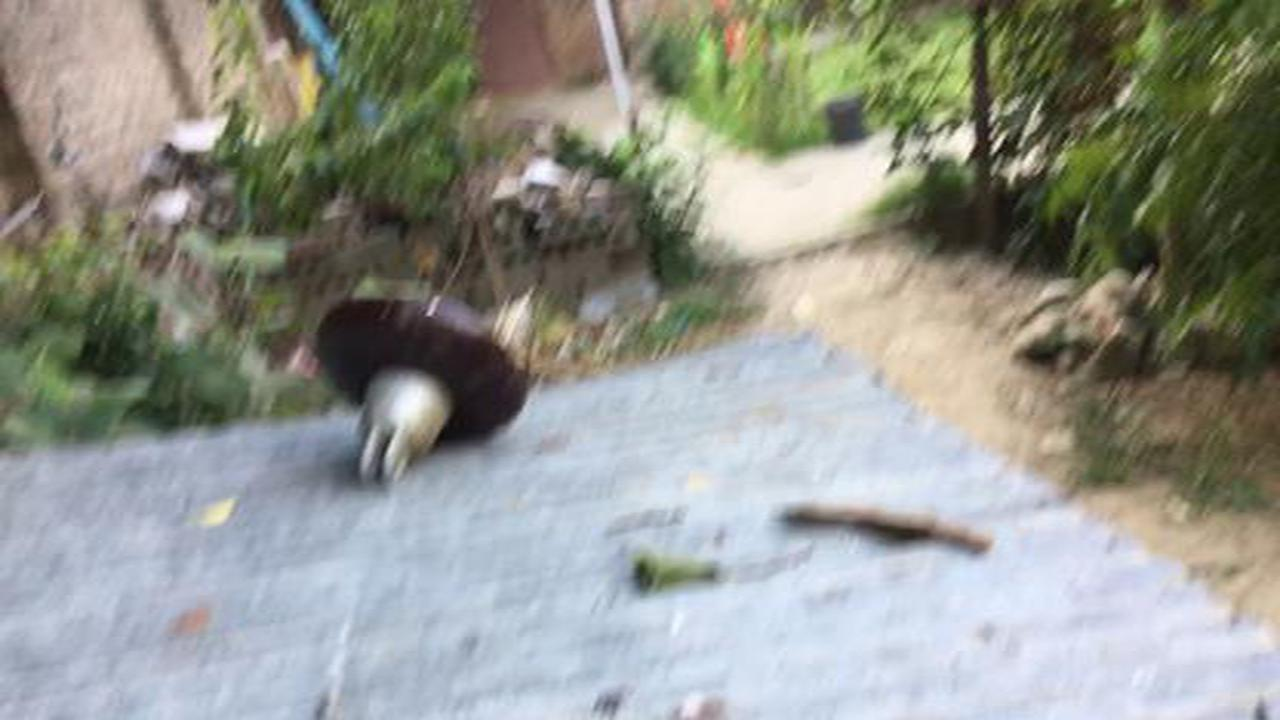insulator_disc: (312, 290, 534, 489)
